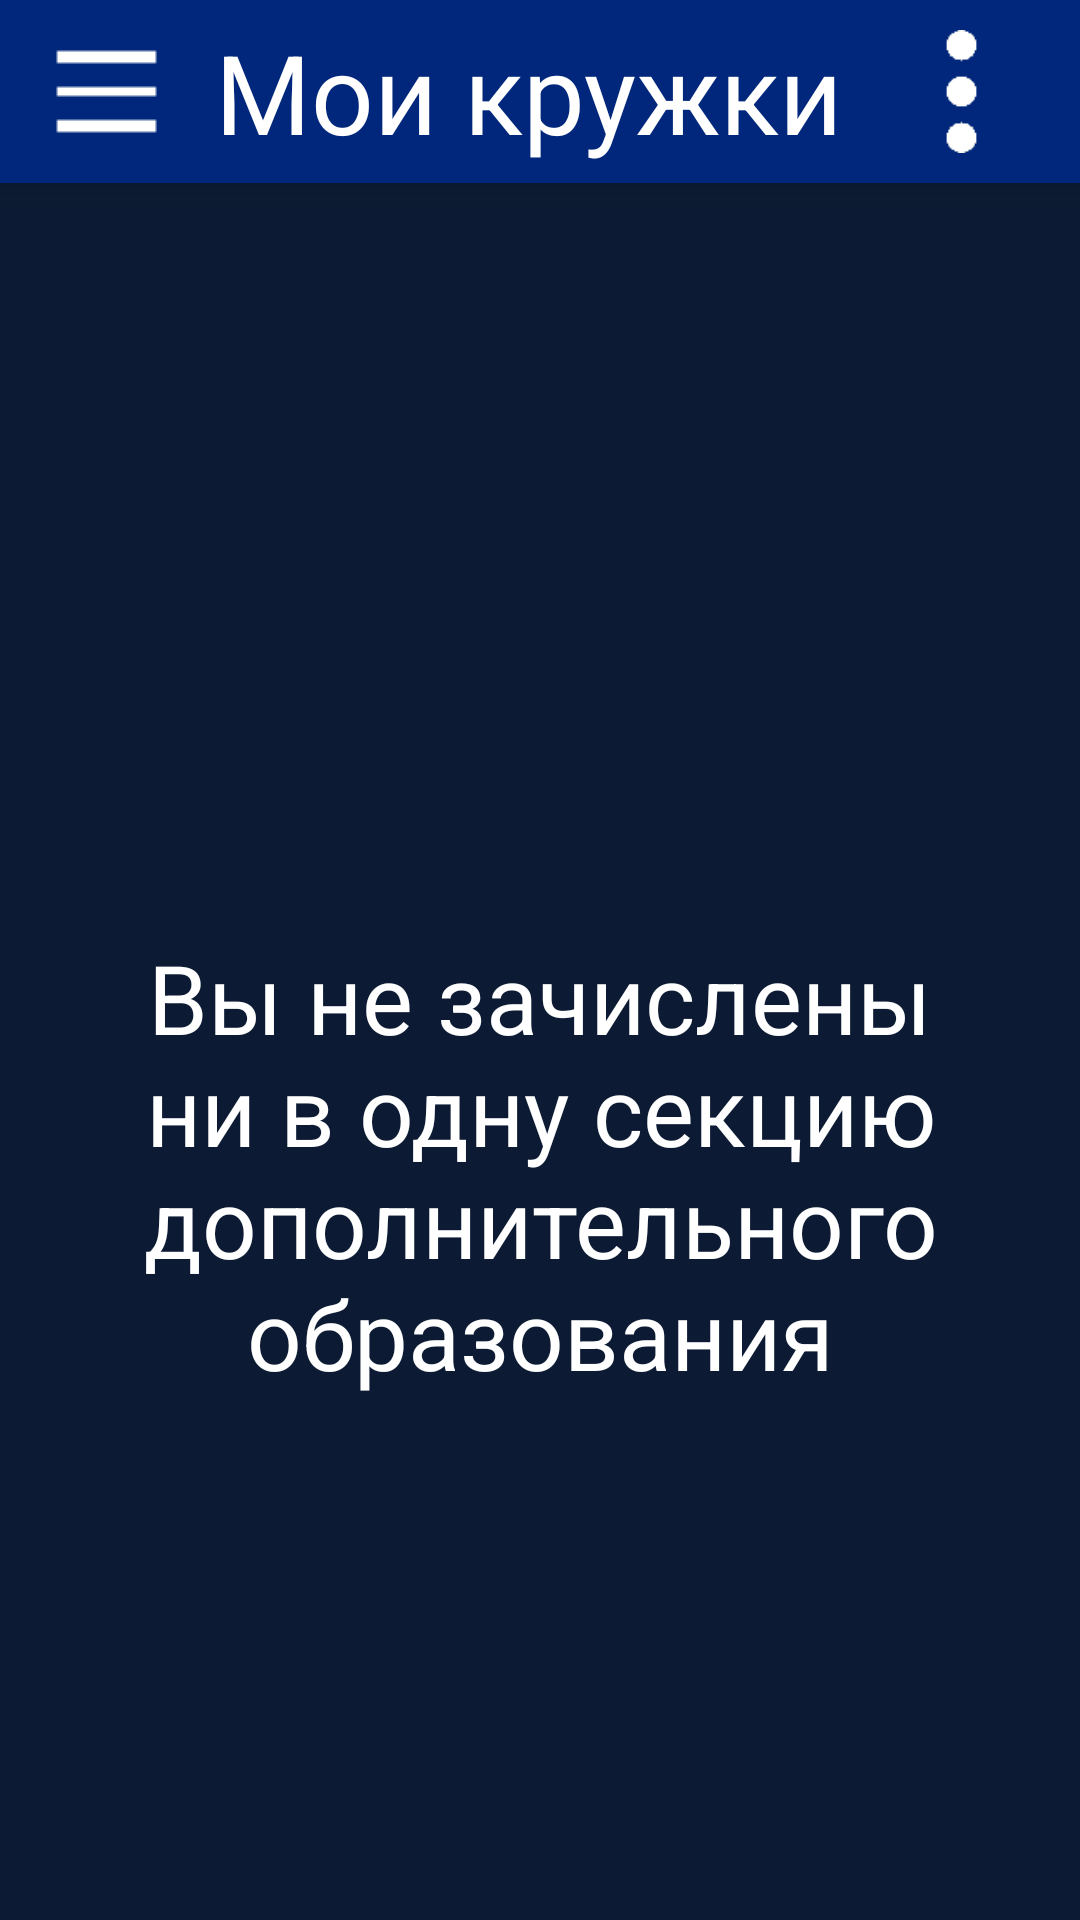

Icon click points for this 1080x1920 phone screenshot, format (x=x, y=y):
leftmenuicon: (x=106, y=91)
